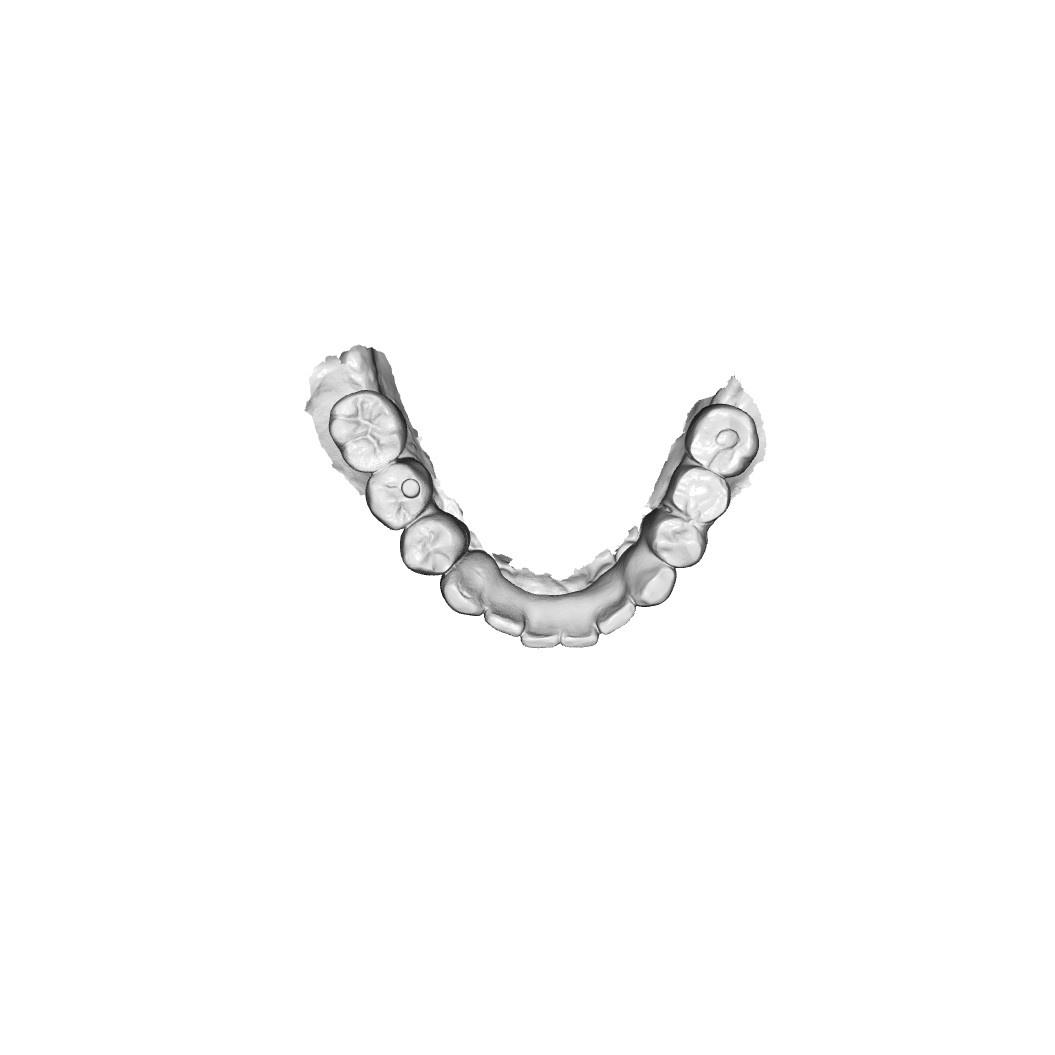canine: (439, 549, 495, 627), (627, 547, 677, 608)
incisor: (589, 577, 638, 638), (518, 598, 566, 652), (556, 597, 602, 649), (485, 578, 523, 636)
molar: (328, 388, 408, 473), (683, 403, 760, 478)
premolar: (366, 457, 432, 530), (399, 512, 468, 576), (665, 465, 730, 524), (645, 512, 706, 571)
